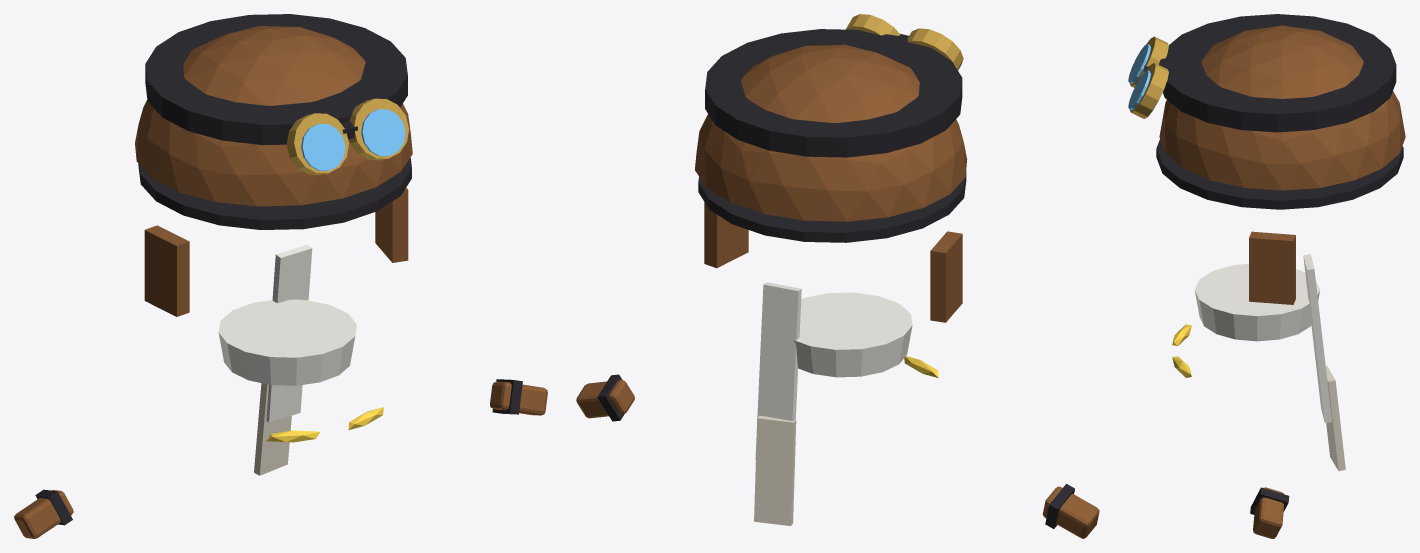
File: Outfit_Plane.fbx
3 renders of one model, left to right at view 1: azimuth 30°, elevation 25°; view 2: azimuth 150°, elevation 25°; view 3: azimuth 270°, elevation 25°, orthographic. The views are drawn at different scales.
Visible parts, largest first — view 1: AviatorCap__Head, Goggles__Head, Scarf__spine.004, GloveR__hand.R.006, GloveL__hand.L.006, Wings__spine.002; view 2: AviatorCap__Head, Goggles__Head, Scarf__spine.004, GloveR__hand.R.006, GloveL__hand.L.006; view 3: AviatorCap__Head, Goggles__Head, Scarf__spine.004, GloveL__hand.L.006, Wings__spine.002.
Boxes of the visible parts, x1,y1,x2,y2 form: AviatorCap__Head: (135, 26, 412, 316); Goggles__Head: (145, 14, 408, 174); Scarf__spine.004: (218, 244, 356, 475); GloveR__hand.R.006: (14, 489, 73, 538); GloveL__hand.L.006: (490, 379, 547, 415); Wings__spine.002: (266, 407, 383, 442); AviatorCap__Head: (695, 44, 967, 322); Goggles__Head: (705, 14, 963, 157); Scarf__spine.004: (754, 282, 912, 525); GloveR__hand.R.006: (1042, 484, 1099, 538); GloveL__hand.L.006: (576, 374, 634, 421); AviatorCap__Head: (1156, 25, 1405, 304); Goggles__Head: (1128, 14, 1396, 132); Scarf__spine.004: (1194, 254, 1345, 471); GloveL__hand.L.006: (1250, 487, 1289, 538); Wings__spine.002: (1172, 324, 1191, 377).
Size of the model in its own units: 1.08 by 0.9052 by 0.552.
